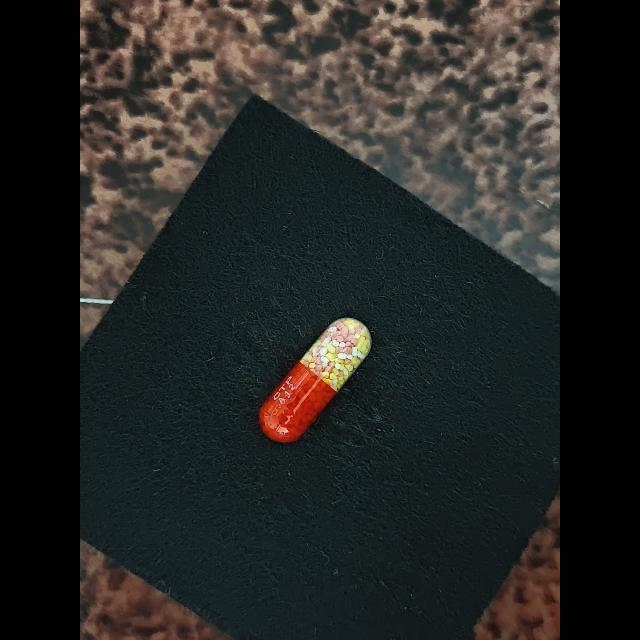Intact Capsule: (259, 318, 372, 443)
